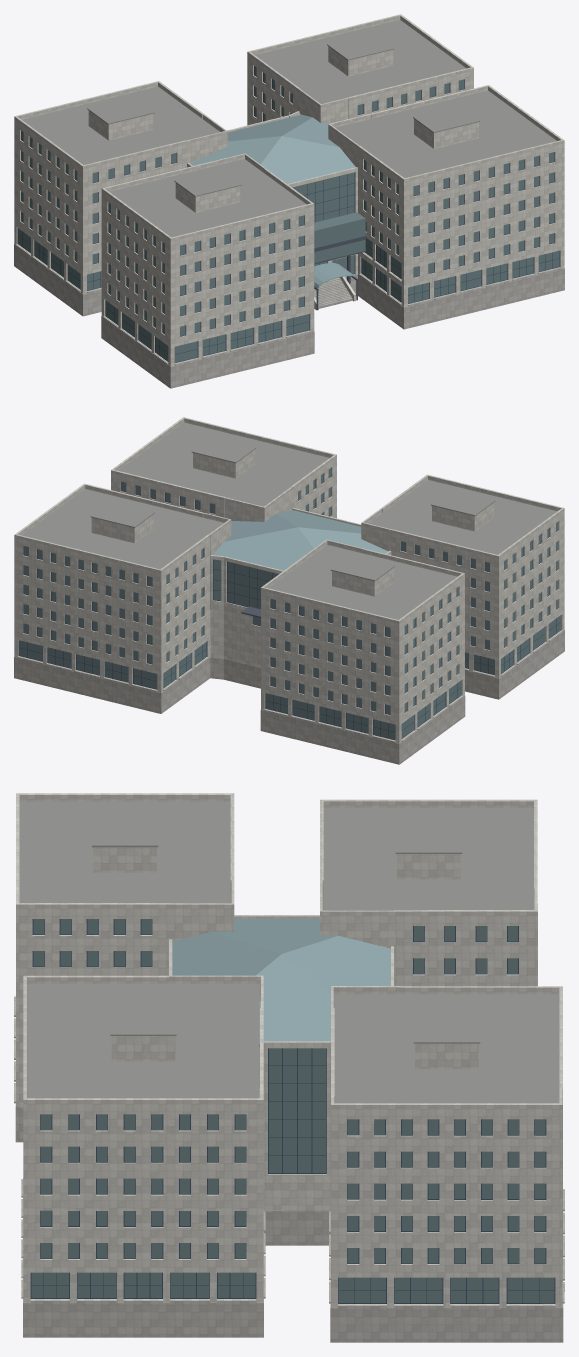
The picture shows the model from 3 angles, top to bottom: view 1: azimuth 30°, elevation 25°; view 2: azimuth 150°, elevation 25°; view 3: azimuth 270°, elevation 25°; orthographic projection. The views are drawn at different scales.
Parts seen in each view (by area): view 1: library__granite, library__roof, library__glass, library__pier, library__skylight, library__frame, library__metal; view 2: library__granite, library__roof, library__glass, library__pier, library__skylight, library__frame; view 3: library__granite, library__roof, library__glass, library__pier, library__skylight, library__frame.
Boxes of the visible parts, bbox=[...] form: library__granite: bbox=[14, 14, 564, 366]; library__roof: bbox=[22, 20, 556, 237]; library__glass: bbox=[18, 66, 559, 362]; library__pier: bbox=[14, 244, 564, 388]; library__skylight: bbox=[190, 114, 357, 288]; library__frame: bbox=[17, 66, 559, 362]; library__metal: bbox=[314, 236, 365, 309]; library__granite: bbox=[14, 417, 564, 743]; library__roof: bbox=[22, 422, 556, 619]; library__glass: bbox=[19, 468, 561, 739]; library__pier: bbox=[14, 630, 564, 764]; library__skylight: bbox=[213, 510, 387, 570]; library__frame: bbox=[18, 468, 560, 740]; library__granite: bbox=[16, 793, 562, 1307]; library__roof: bbox=[20, 801, 558, 1103]; library__glass: bbox=[31, 919, 554, 1303]; library__pier: bbox=[14, 996, 564, 1342]; library__skylight: bbox=[172, 918, 390, 1043]; library__frame: bbox=[30, 919, 555, 1303].
Bounding box in the file's own units: 81.47 × 31.36 × 60.55.
Materials: 7 (2 with a texture image).
